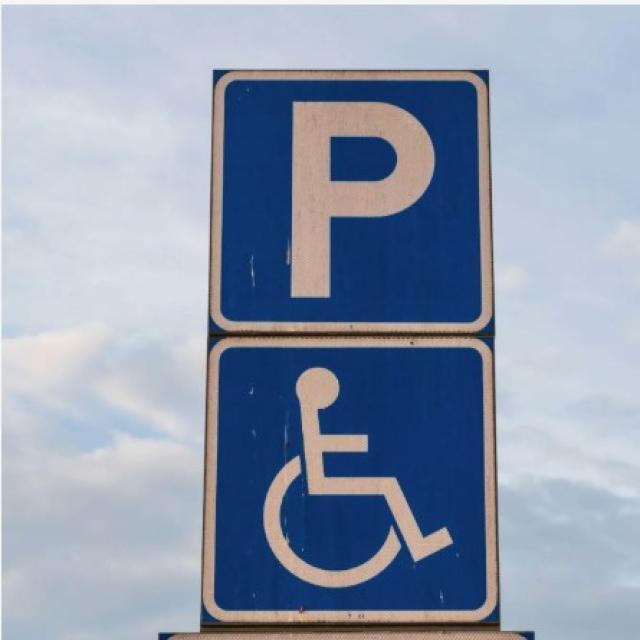symbol_of_access: (199, 332, 497, 627)
